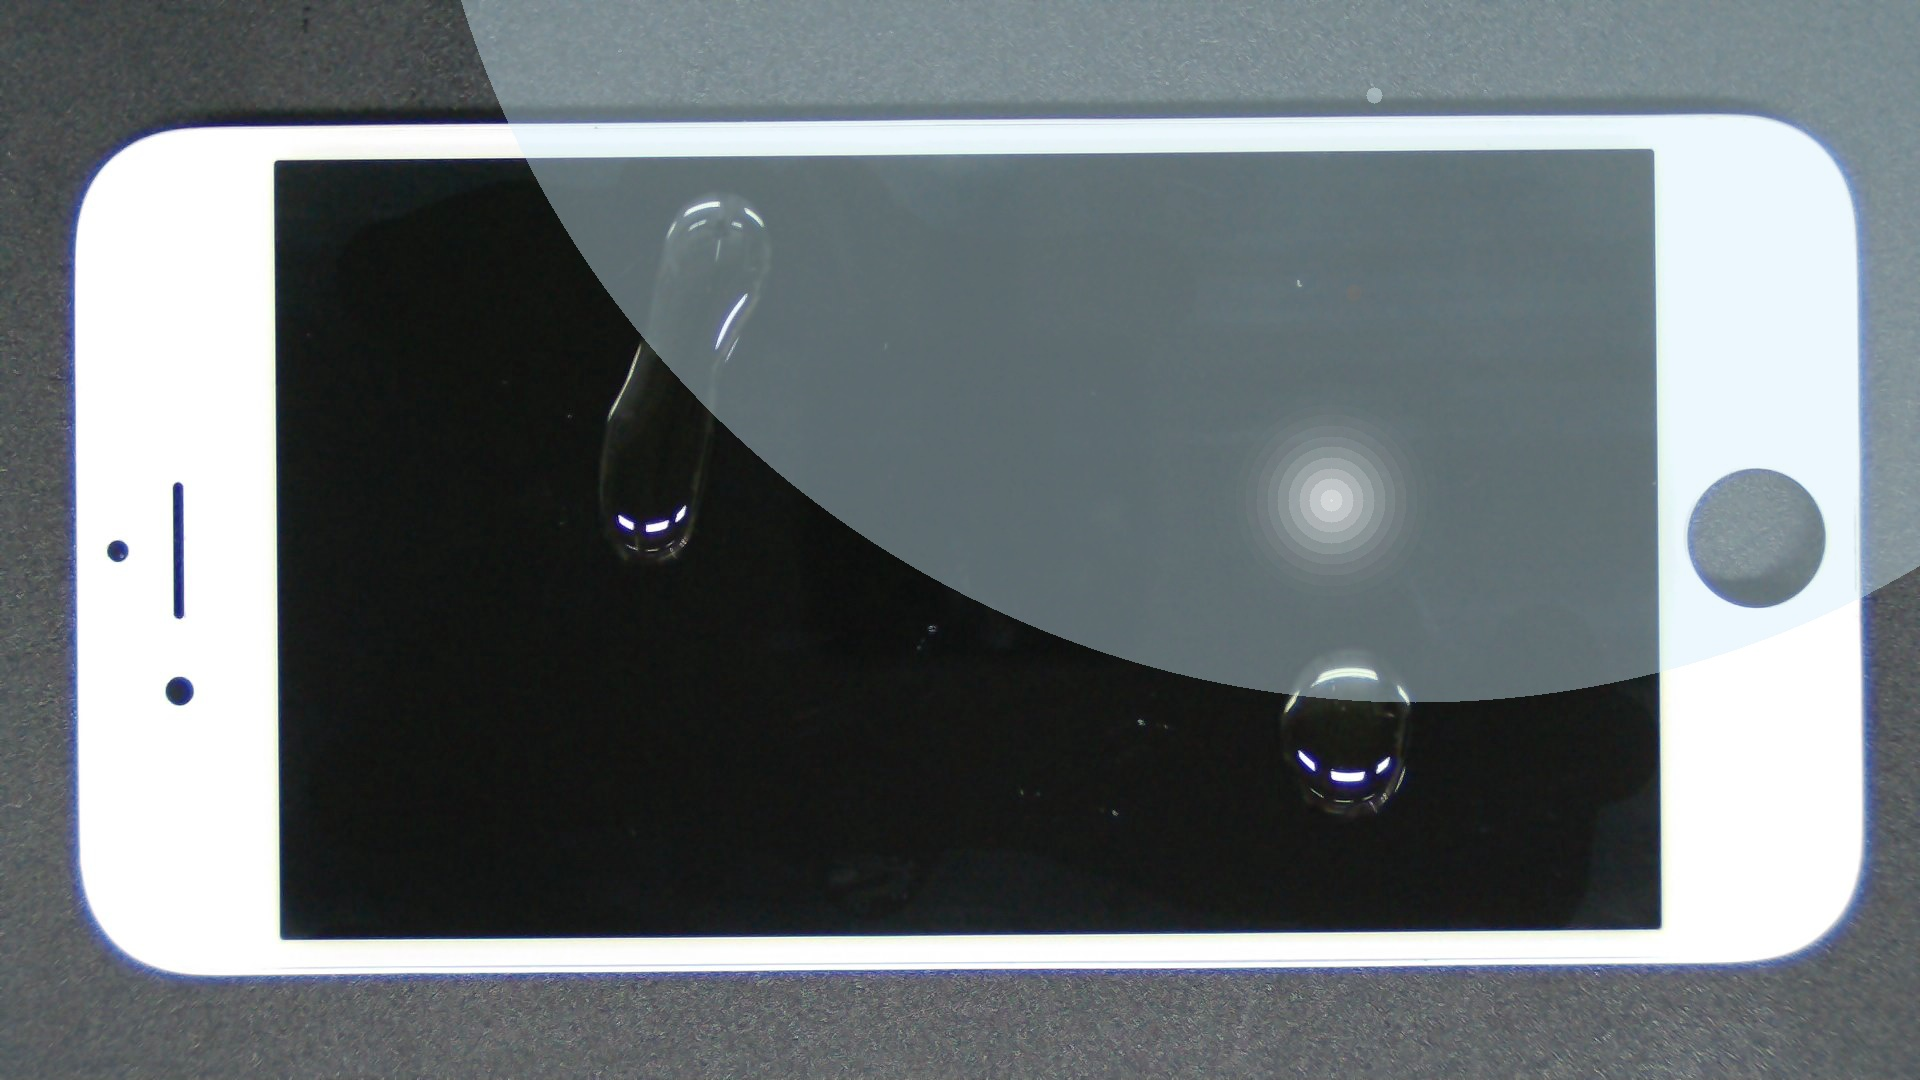oil: (674, 323, 1920, 971), (360, 95, 1076, 287)
